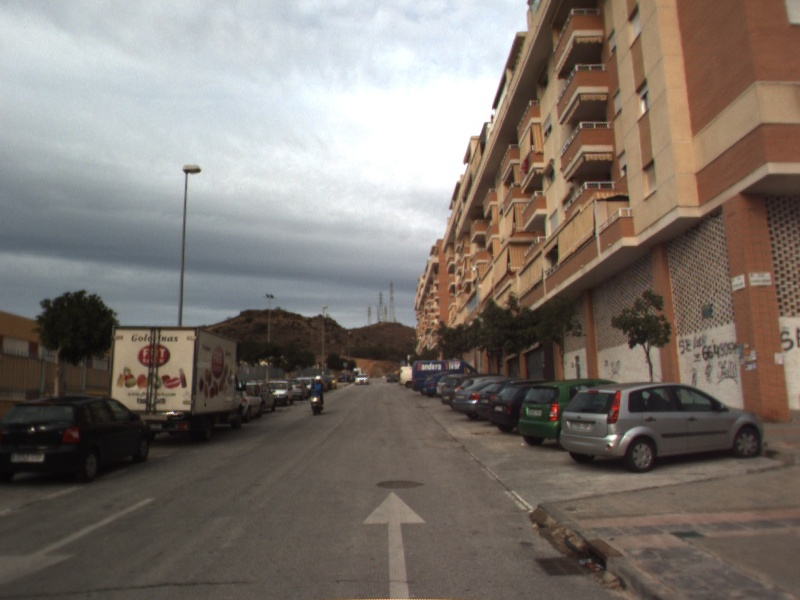STRAIGHT: (359, 489, 428, 600)
